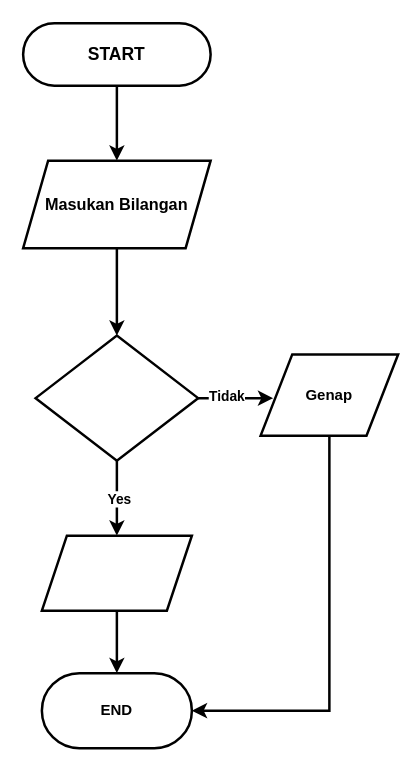
Some shapes in this 420 by 770 pixel diagram are drawn without their labels. Each missing label, with the centre of its shape:
bil mod 2 = 0: pixel 116 397
Ganjil: pixel 116 572
